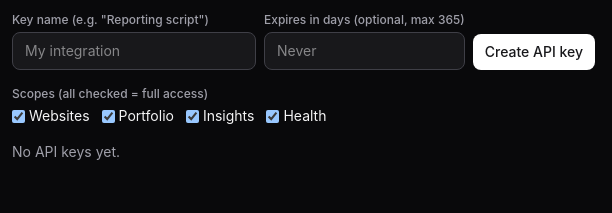
Test case: ApiKeyManager › shows the server error when creation fails
The image size is (612, 213).
Type "Key" into the field labelled "Key name (e.g. \"Reporting script\")".
click(134, 51); type("Key")  # box [12,32,256,70]
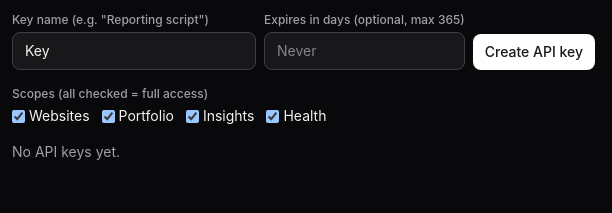
Click the button "Create API key".
click(534, 52)  # box [473,34,595,70]
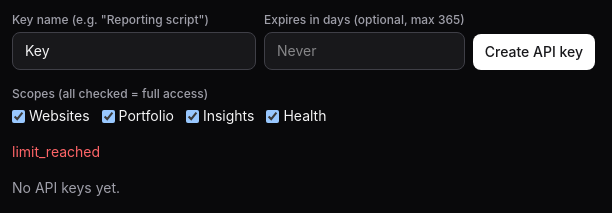
Expected: the message reads "limit_reached", [12,143,100,160]
